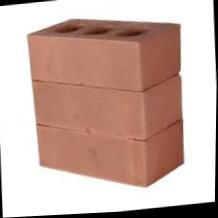brick: (25, 19, 145, 104), (34, 112, 147, 200), (31, 68, 147, 153)
